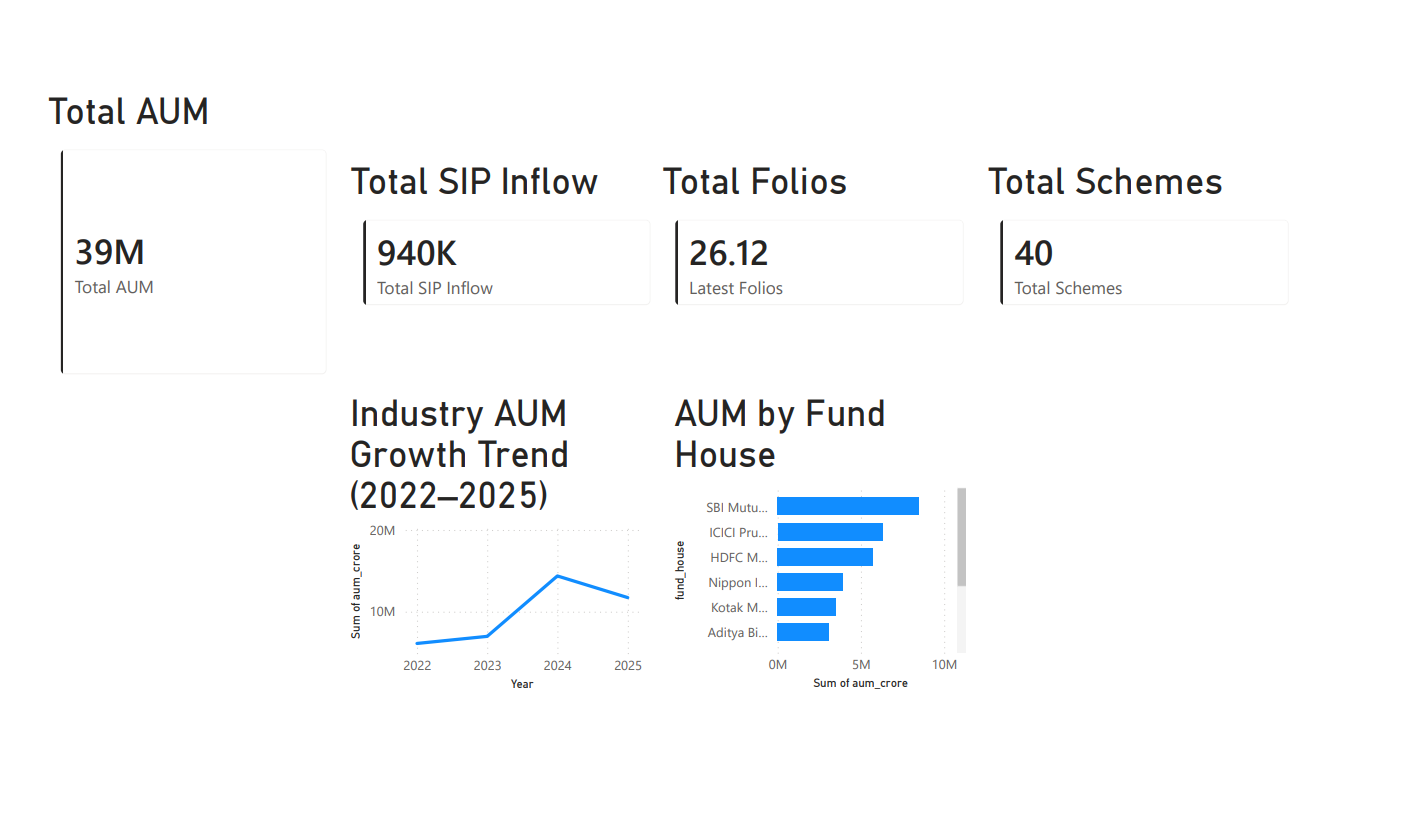

Layout of this report page (visuals, bound fields, positions):
{"tool":"powerbi","page":{"name":"Page 1","canvas":[1280,720],"ordinal":0},"visuals":[{"type":"cardVisual","title":"Total AUM","fields":{"Data":["03_aum_by_fund_house.Total AUM"]},"box":[20,64.3,280,280],"z":0},{"type":"cardVisual","title":"Total SIP Inflow","fields":{"Data":["04_monthly_sip_inflows.Total SIP Inflow"]},"box":[300,128.6,300,151.4],"z":1000},{"type":"cardVisual","title":"Total Folios","fields":{"Data":["06_industry_folio_count.Latest Folios"]},"box":[588.6,128.6,301.4,151.4],"z":2000},{"type":"cardVisual","title":"Total Schemes","fields":{"Data":["clean_scheme_performance.Total Schemes"]},"box":[890,128.6,301.4,151.4],"z":3000},{"type":"lineChart","title":"Industry AUM Growth Trend (2022–2025)","fields":{"Category":["03_aum_by_fund_house.date.Variation.Date Hierarchy.Year","03_aum_by_fund_house.date.Variation.Date Hierarchy.Quarter","03_aum_by_fund_house.date.Variation.Date Hierarchy.Month","03_aum_by_fund_house.date.Variation.Date Hierarchy.Day"],"Y":["Sum(03_aum_by_fund_house.aum_crore)"]},"box":[300,344.3,280,280],"z":4000},{"type":"clusteredBarChart","title":"AUM by Fund House","fields":{"Category":["03_aum_by_fund_house.fund_house"],"Y":["Sum(03_aum_by_fund_house.aum_crore)"]},"box":[600,344.3,280,280],"z":5000}]}

Visuals, with their boxes in screenshot pixels (x1, y1, x2, y2), scaled from the page's 1280x720 canvas onto the 1422x818 screenshot:
"Total AUM" cardVisual: locate(22, 73, 333, 391)
"Total SIP Inflow" cardVisual: locate(333, 146, 667, 318)
"Total Folios" cardVisual: locate(654, 146, 989, 318)
"Total Schemes" cardVisual: locate(989, 146, 1324, 318)
"Industry AUM Growth Trend (2022–2025)" lineChart: locate(333, 391, 644, 709)
"AUM by Fund House" clusteredBarChart: locate(667, 391, 978, 709)
